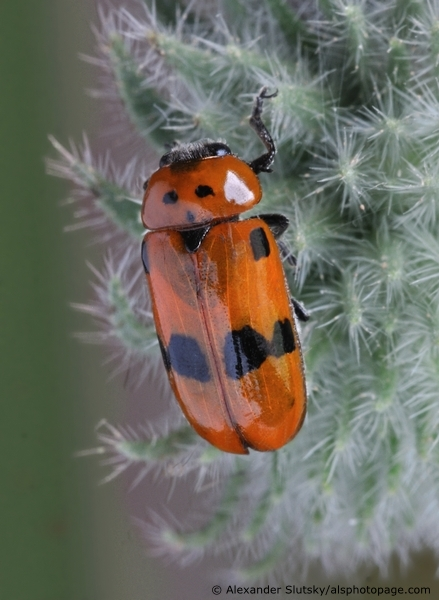Clytra_novempunctata: (126, 85, 315, 463)
